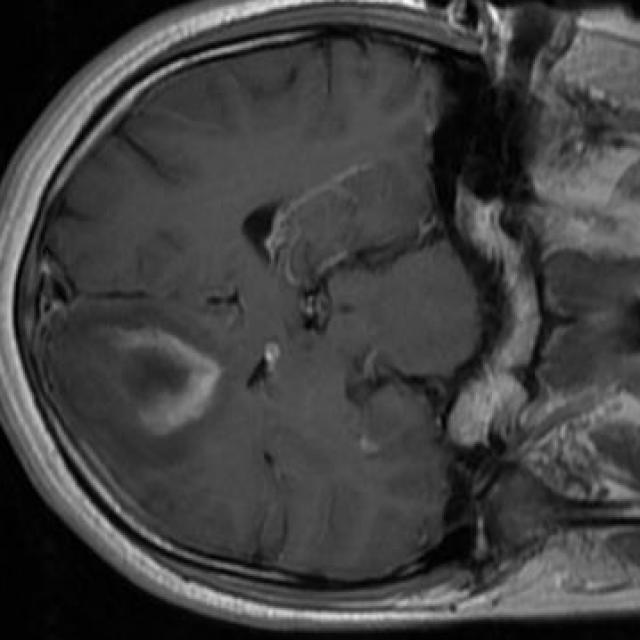glioma: (61, 303, 223, 467)
